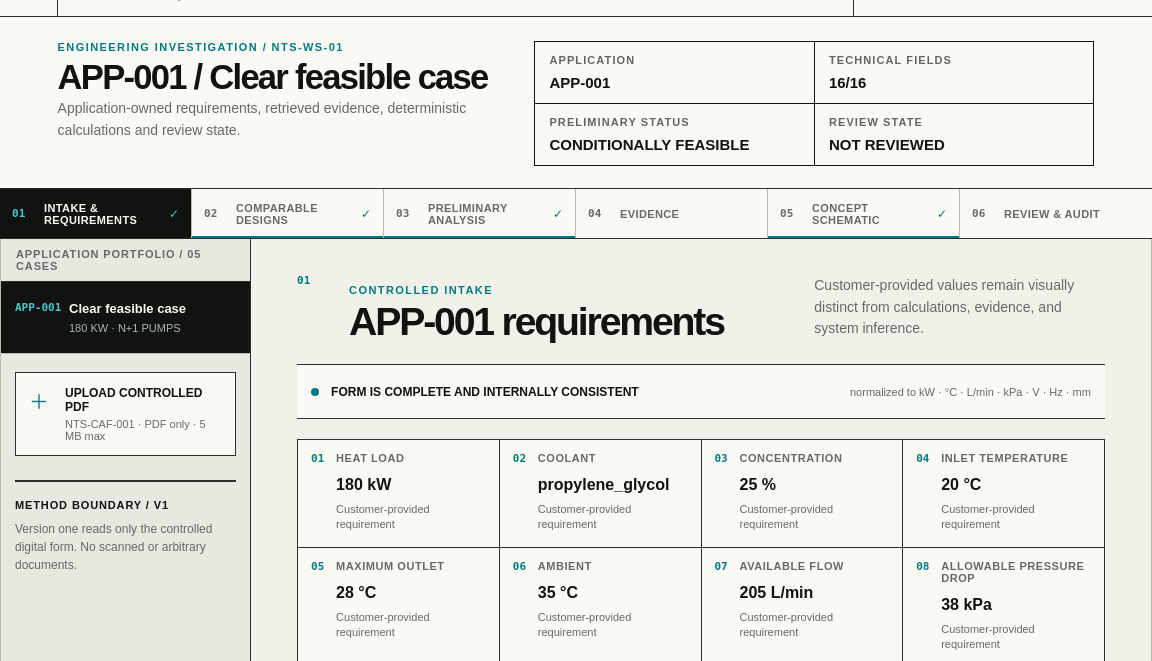
workspace › renders approval review controls
Expected: the heading "APP-001 requirements" is shown, [349,300,724,343]
What coordinates should you click on to do the following:
click the button "06 Review & audit"
I would click on:
 (1056, 214)
Its box is [960,189,1151,238].
(page scrolled)
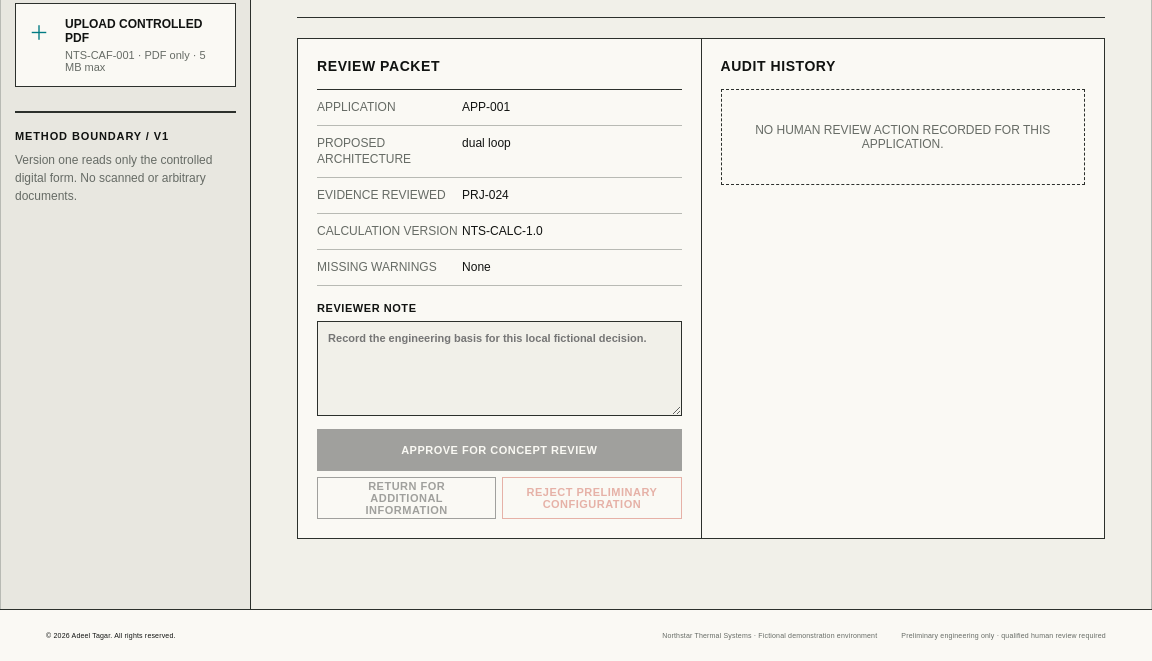
Expected: the button "Approve for concept review" is disabled, [317,428,682,470]
